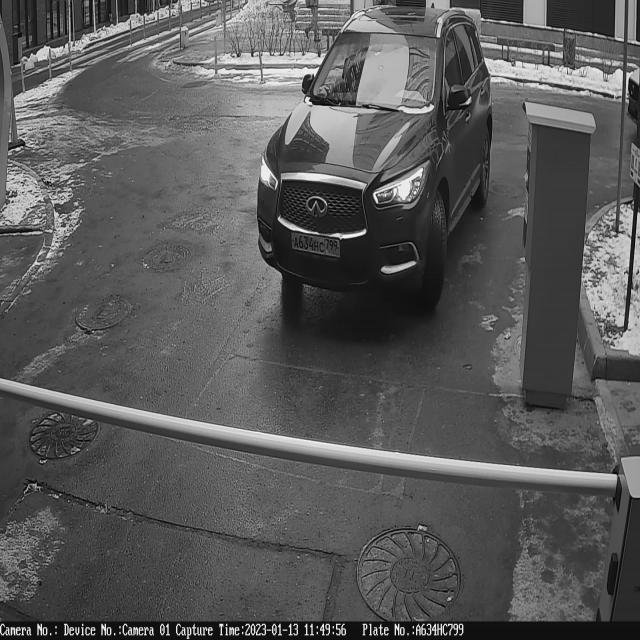car-plate-numbers: (291, 229, 341, 264)
